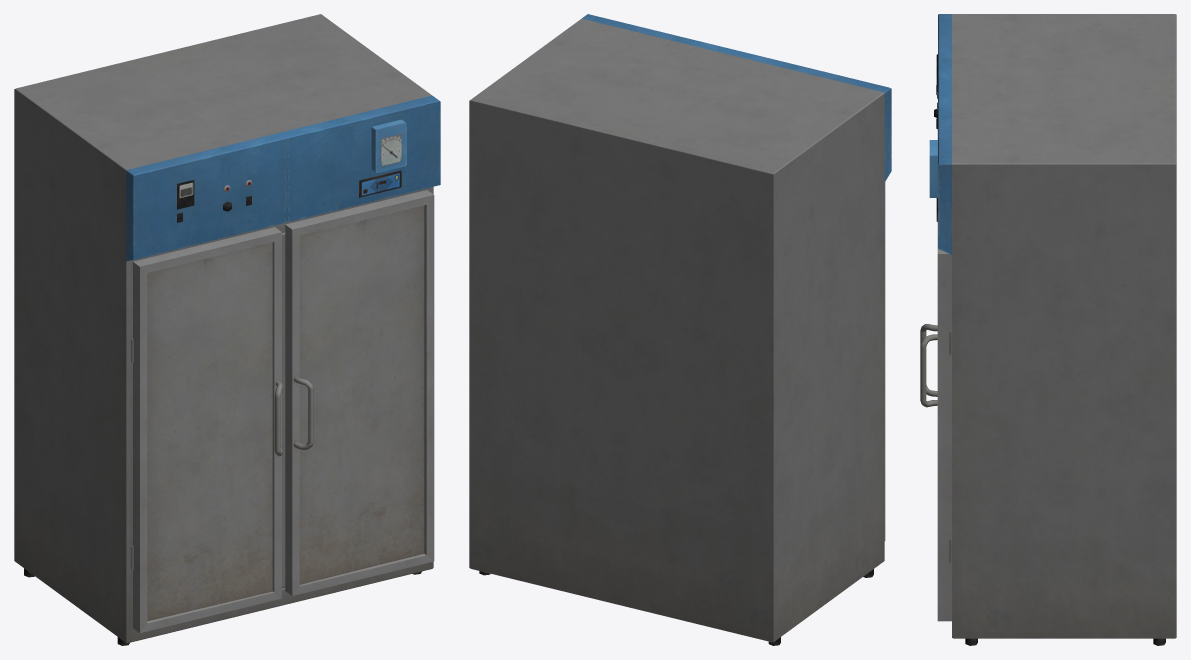
The model's file is sm23_013_labfreezer01a.fbx.
The picture shows the model from 3 angles, left to right: view 1: azimuth 30°, elevation 25°; view 2: azimuth 150°, elevation 25°; view 3: azimuth 270°, elevation 25°; orthographic projection.
Parts seen in each view (by area): view 1: LOD_1_Group_0_Sub_1__sm23_013_LabFreezer01A_A_Mat__Env_Defau, LOD_1_Group_2_Sub_1__sm23_013_LabFreezer01A_A_Mat__Glass_Exp, LOD_1_Group_11_Sub_1__sm23_013_LabFreezer01A_A_Mat__Env_Defa, LOD_1_Group_12_Sub_1__sm23_013_LabFreezer01A_A_Mat__Env_Defa, LOD_1_Group_13_Sub_1__sm23_013_LabFreezer01A_A_Mat__Env_Defa, LOD_1_Group_1_Sub_1__sm23_013_LabFreezer01A_A_Mat__Env_Defau; view 2: LOD_1_Group_0_Sub_1__sm23_013_LabFreezer01A_A_Mat__Env_Defau, LOD_1_Group_12_Sub_1__sm23_013_LabFreezer01A_A_Mat__Env_Defa; view 3: LOD_1_Group_0_Sub_1__sm23_013_LabFreezer01A_A_Mat__Env_Defau, LOD_1_Group_11_Sub_1__sm23_013_LabFreezer01A_A_Mat__Env_Defa, LOD_1_Group_13_Sub_1__sm23_013_LabFreezer01A_A_Mat__Env_Defa, LOD_1_Group_10_Sub_1__sm23_013_LabFreezer01A_A_Mat__Env_Defa.
Part boxes in pixels (x1=…): LOD_1_Group_0_Sub_1__sm23_013_LabFreezer01A_A_Mat__Env_Defau: x1=14, y1=14, x2=440, y2=643; LOD_1_Group_2_Sub_1__sm23_013_LabFreezer01A_A_Mat__Glass_Exp: x1=147, y1=205, x2=424, y2=621; LOD_1_Group_11_Sub_1__sm23_013_LabFreezer01A_A_Mat__Env_Defa: x1=285, y1=190, x2=434, y2=595; LOD_1_Group_12_Sub_1__sm23_013_LabFreezer01A_A_Mat__Env_Defa: x1=133, y1=227, x2=281, y2=632; LOD_1_Group_13_Sub_1__sm23_013_LabFreezer01A_A_Mat__Env_Defa: x1=177, y1=119, x2=406, y2=222; LOD_1_Group_1_Sub_1__sm23_013_LabFreezer01A_A_Mat__Env_Defau: x1=282, y1=232, x2=285, y2=588; LOD_1_Group_0_Sub_1__sm23_013_LabFreezer01A_A_Mat__Env_Defau: x1=469, y1=14, x2=891, y2=642; LOD_1_Group_12_Sub_1__sm23_013_LabFreezer01A_A_Mat__Env_Defa: x1=884, y1=182, x2=885, y2=540; LOD_1_Group_0_Sub_1__sm23_013_LabFreezer01A_A_Mat__Env_Defau: x1=938, y1=14, x2=1176, y2=638; LOD_1_Group_11_Sub_1__sm23_013_LabFreezer01A_A_Mat__Env_Defa: x1=937, y1=222, x2=951, y2=621; LOD_1_Group_13_Sub_1__sm23_013_LabFreezer01A_A_Mat__Env_Defa: x1=929, y1=54, x2=937, y2=221; LOD_1_Group_10_Sub_1__sm23_013_LabFreezer01A_A_Mat__Env_Defa: x1=920, y1=334, x2=937, y2=407.
Bounding box in the file's own units: 1.63 × 2.45 × 1.18.
